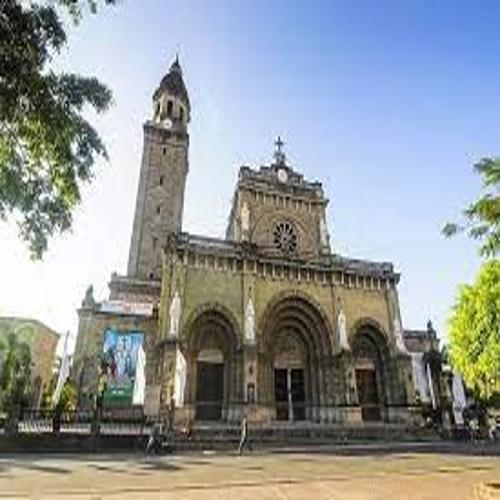Manila Cathedral Church: (63, 42, 465, 459)
